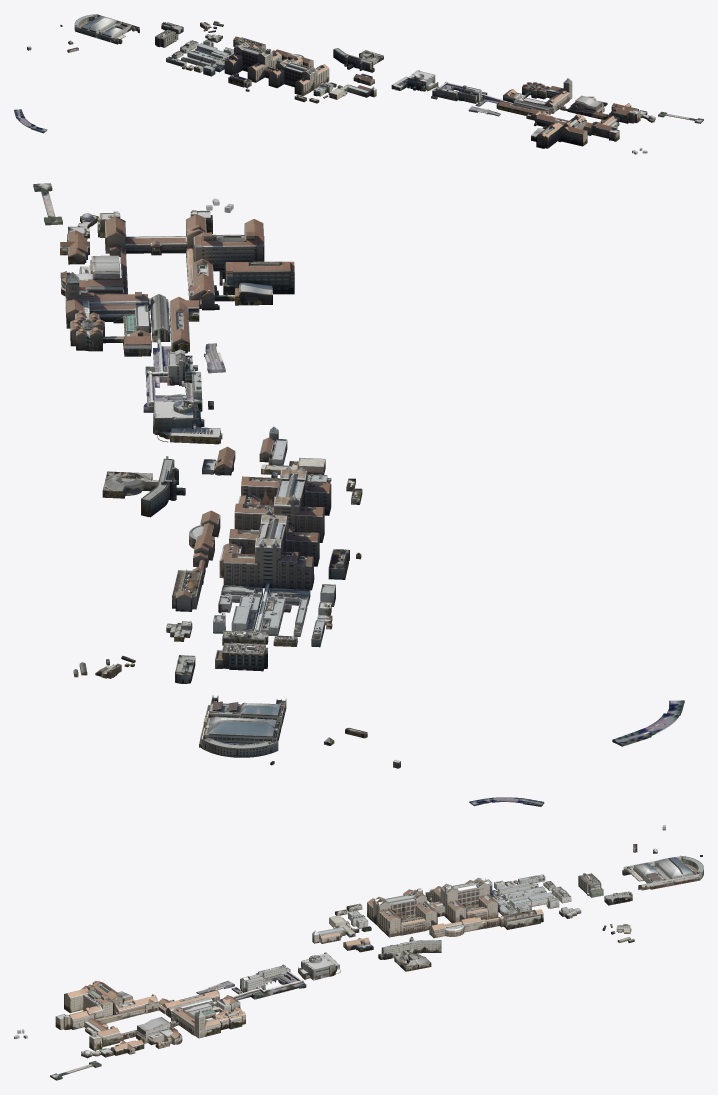
The model's file is schoolmodel_Building.fbx.
3 views of the same model, one above another, from view 1: azimuth 30°, elevation 25°; view 2: azimuth 150°, elevation 25°; view 3: azimuth 270°, elevation 25° (orthographic). The views are drawn at different scales.
Visible parts, largest first — view 1: bldg_80bb0ac3-445f-42c3-badb-8ee66a17d466; view 2: bldg_80bb0ac3-445f-42c3-badb-8ee66a17d466; view 3: bldg_80bb0ac3-445f-42c3-badb-8ee66a17d466.
Boxes of the visible parts, <box> form: bldg_80bb0ac3-445f-42c3-badb-8ee66a17d466: <box>14,14,703,154</box>; bldg_80bb0ac3-445f-42c3-badb-8ee66a17d466: <box>33,183,684,768</box>; bldg_80bb0ac3-445f-42c3-badb-8ee66a17d466: <box>14,797,703,1080</box>.
Bounding box in the file's own units: 10.55 × 0.7721 × 10.22.
